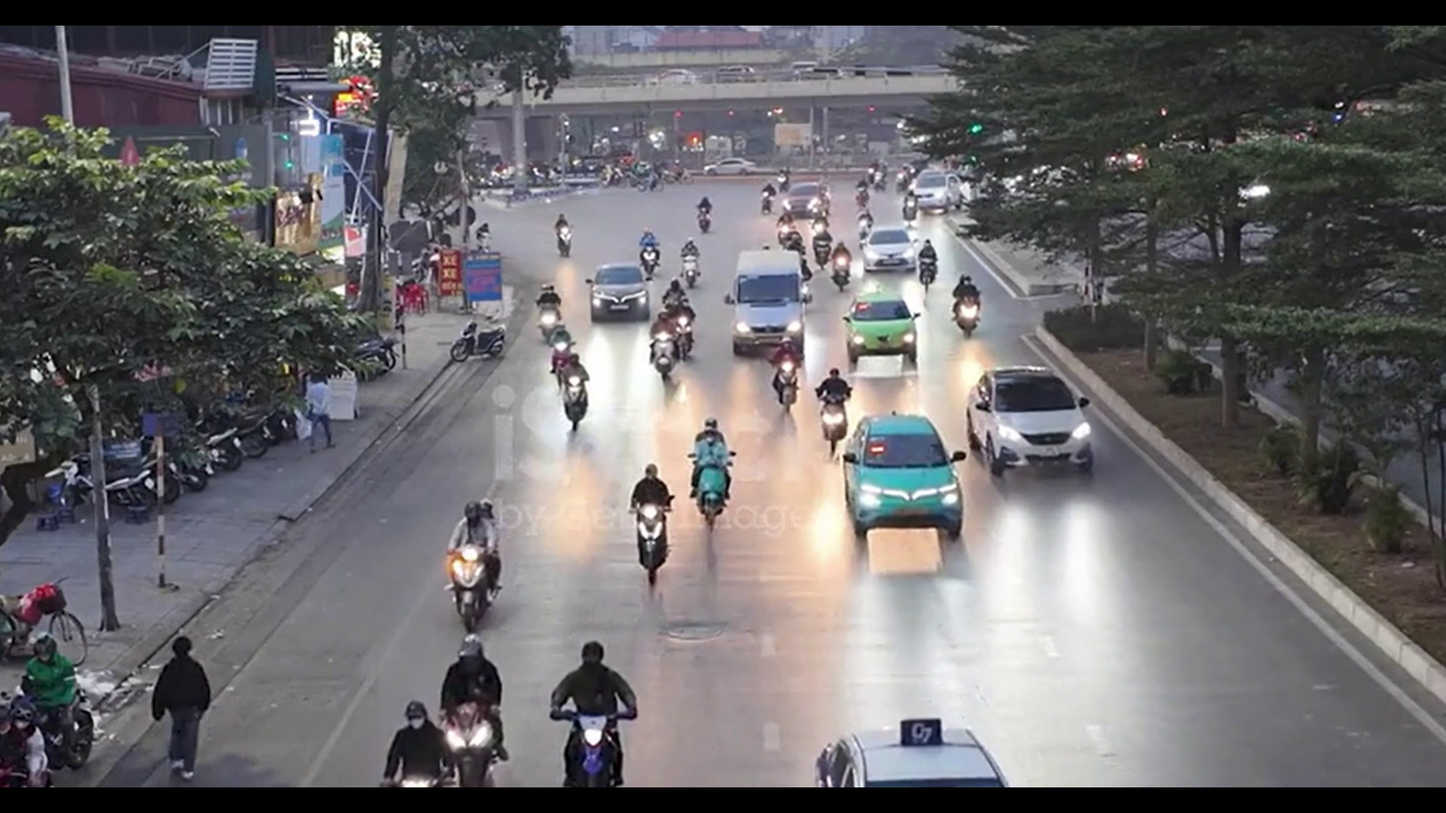car: (840, 413, 965, 538), (966, 367, 1097, 477), (812, 715, 1010, 785), (726, 249, 808, 359), (843, 291, 921, 376), (588, 261, 649, 323), (861, 224, 918, 275), (951, 274, 984, 333)
